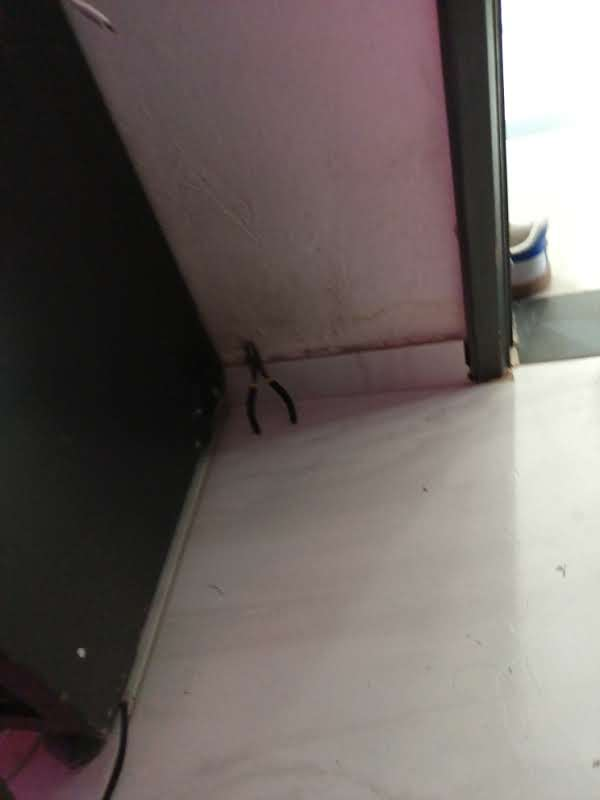Pinzas: (240, 339, 297, 434)
